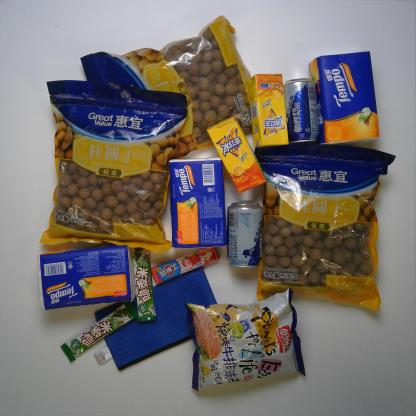Alcohol: (224, 195, 266, 271), (281, 74, 323, 148)
Candy: (147, 244, 221, 287)
Chocolate: (53, 297, 142, 363), (128, 240, 159, 324)
Dried Food: (37, 73, 190, 258), (76, 9, 259, 152), (254, 139, 396, 316)
Drink: (203, 116, 271, 198), (246, 69, 291, 151)
Puffed Food: (181, 284, 309, 393)
Stationery: (89, 266, 227, 372)
Tissue: (307, 47, 383, 150), (35, 244, 136, 312), (166, 153, 230, 252)
